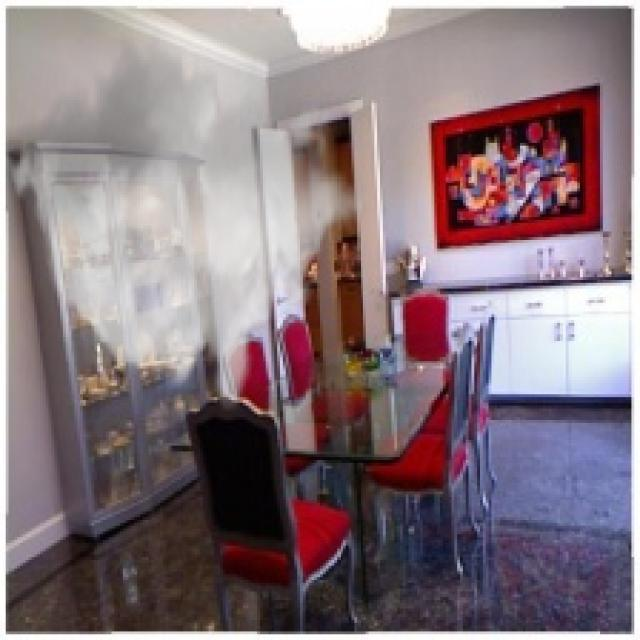Smoke: (6, 29, 366, 412)
